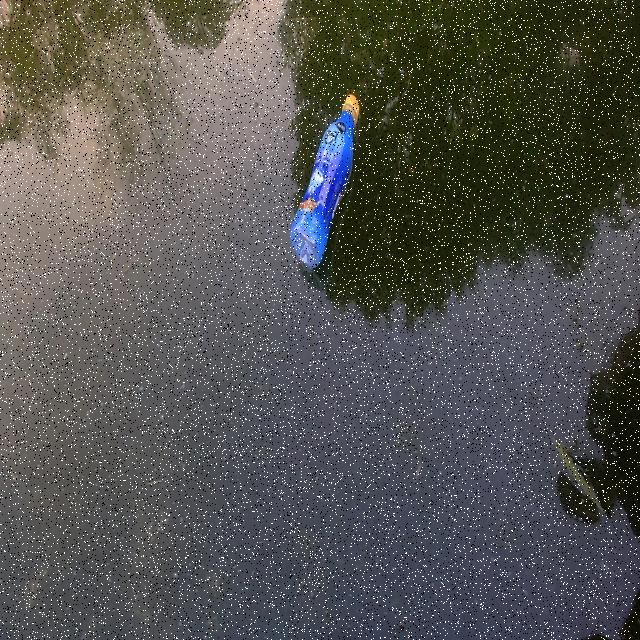Bottle: (288, 91, 362, 271)
